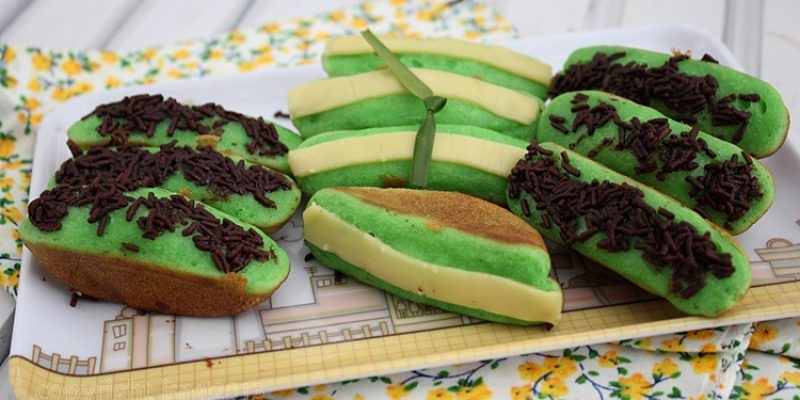pukis: (288, 179, 558, 323)
